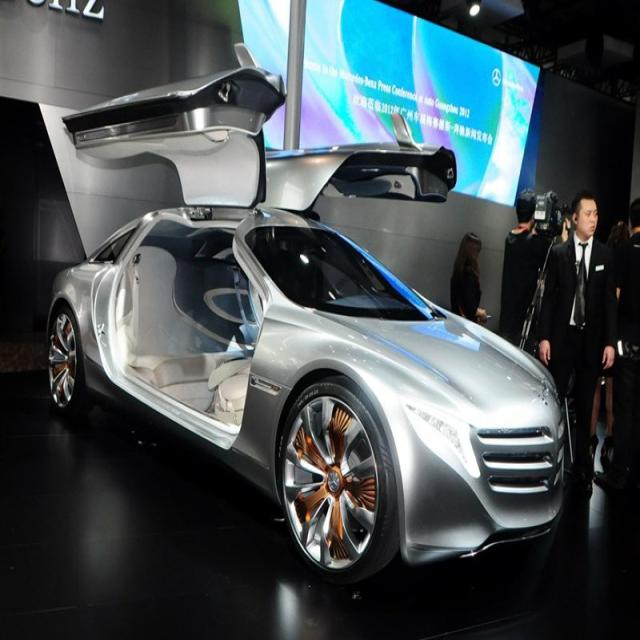front_bumper: (400, 414, 571, 569)
front_glass: (244, 222, 441, 320)
front_left_side_door: (263, 142, 459, 211)
front_left_side_mirror: (386, 108, 419, 152)
front_right_side_door: (61, 59, 287, 205)
front_right_side_light: (399, 393, 482, 481)
front_right_side_mirror: (224, 42, 262, 73)
wheel: (277, 375, 394, 581), (42, 294, 100, 420)
